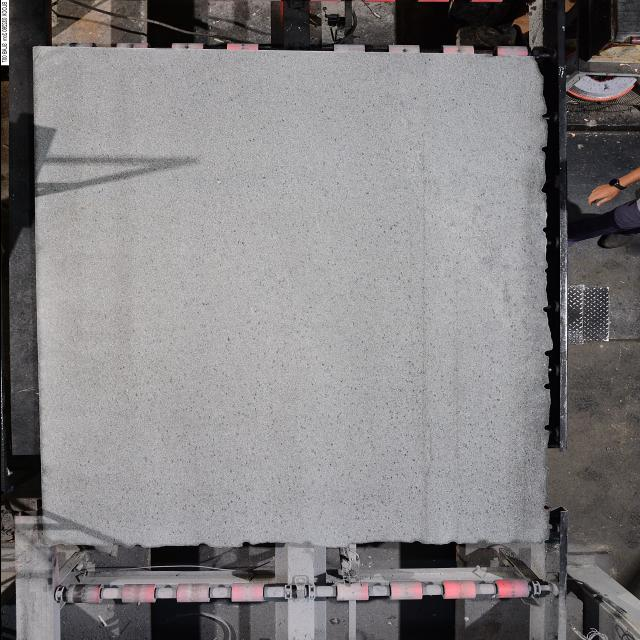chapa: (34, 48, 549, 546)
veio: (542, 348, 556, 360), (542, 111, 557, 122), (539, 145, 549, 153), (242, 542, 255, 546)
